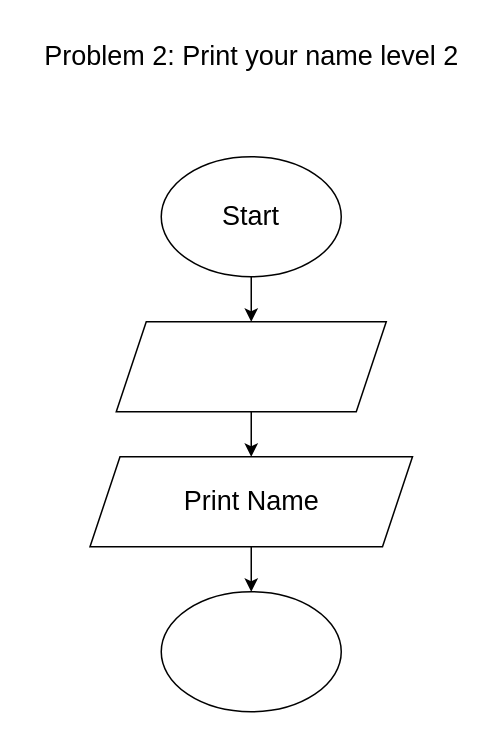
Some shapes in this 501 by 738 pixel diagram are drawn without their labels. The shapes that lost their labels are listed below. From the top down, each one's box as (x1, y1, x2, y2) in pixels, then its label:
(115, 320, 386, 412): Read Name
(160, 590, 341, 712): End
